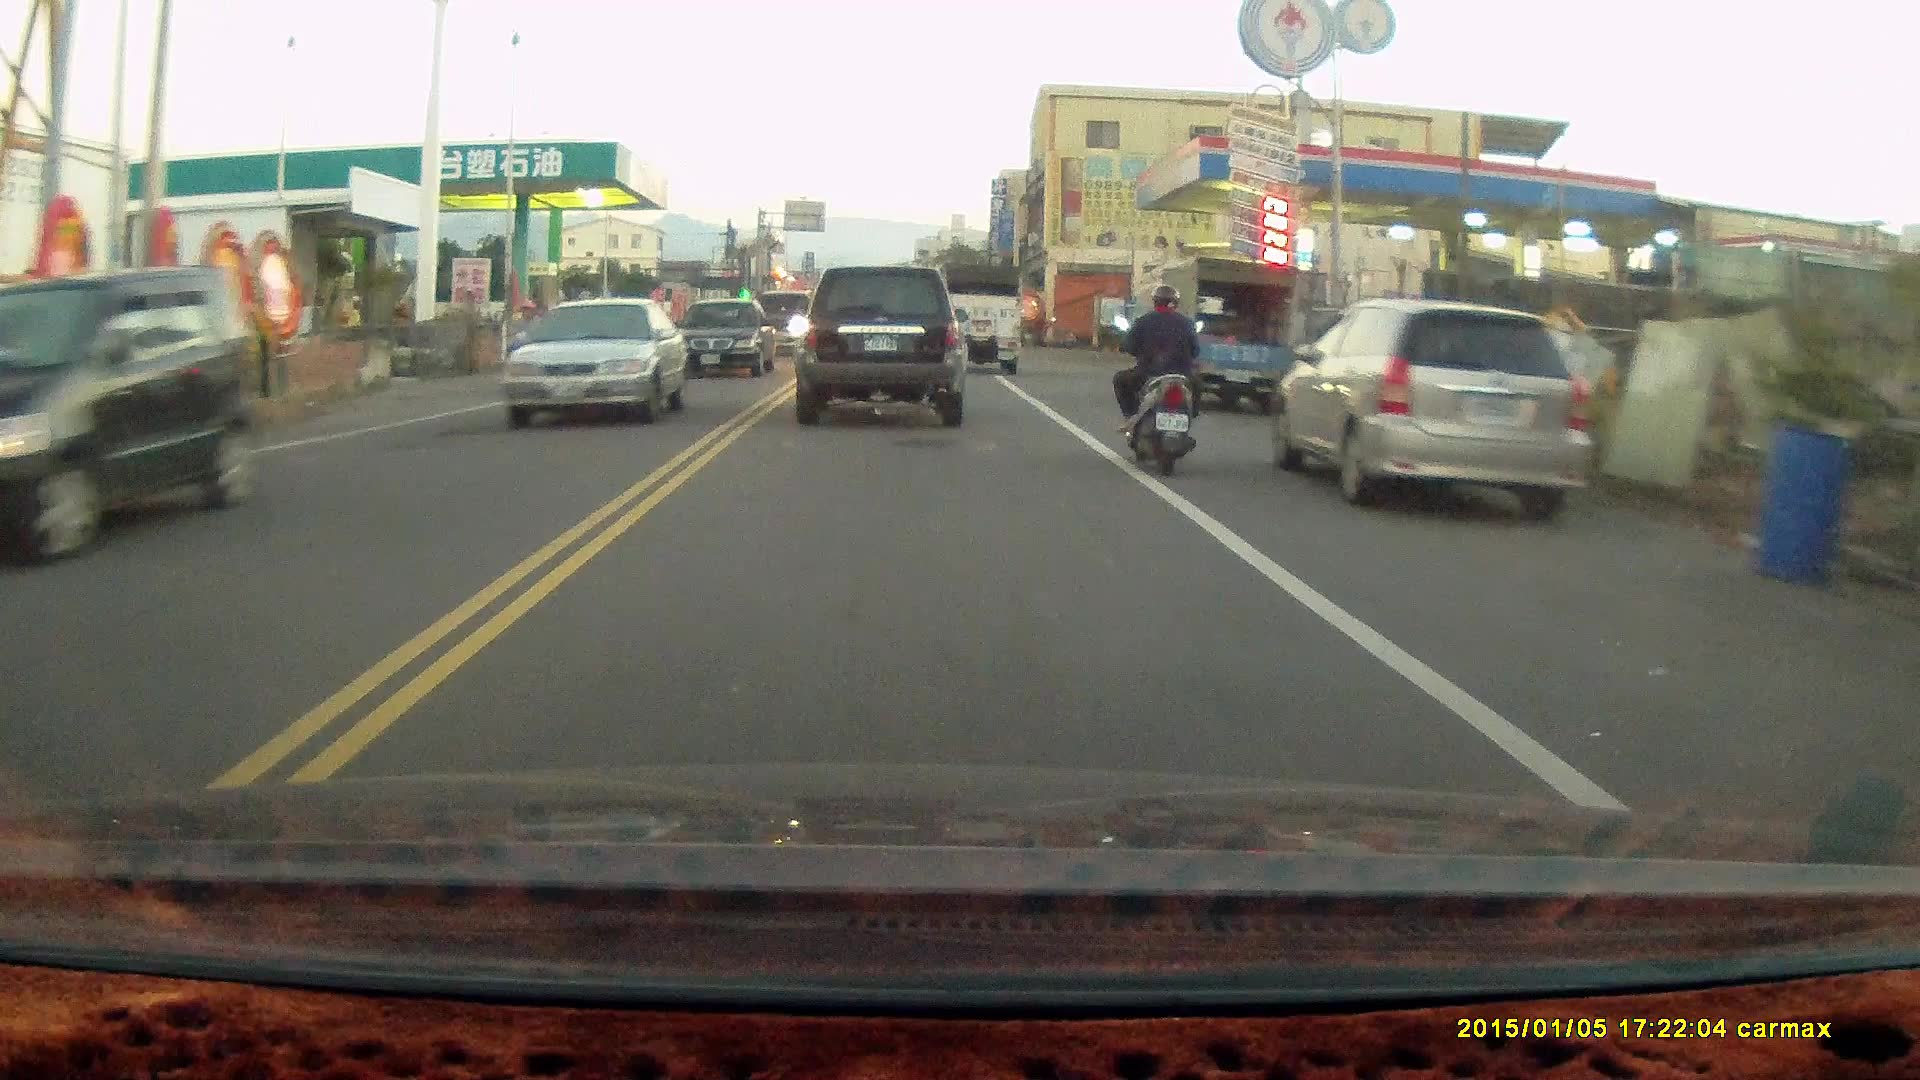rider: (1109, 282, 1207, 474)
vehicle: (2, 271, 278, 562), (1276, 296, 1590, 524), (796, 263, 970, 425), (500, 294, 690, 430), (1137, 257, 1293, 410), (937, 258, 1021, 373), (675, 297, 776, 374)
